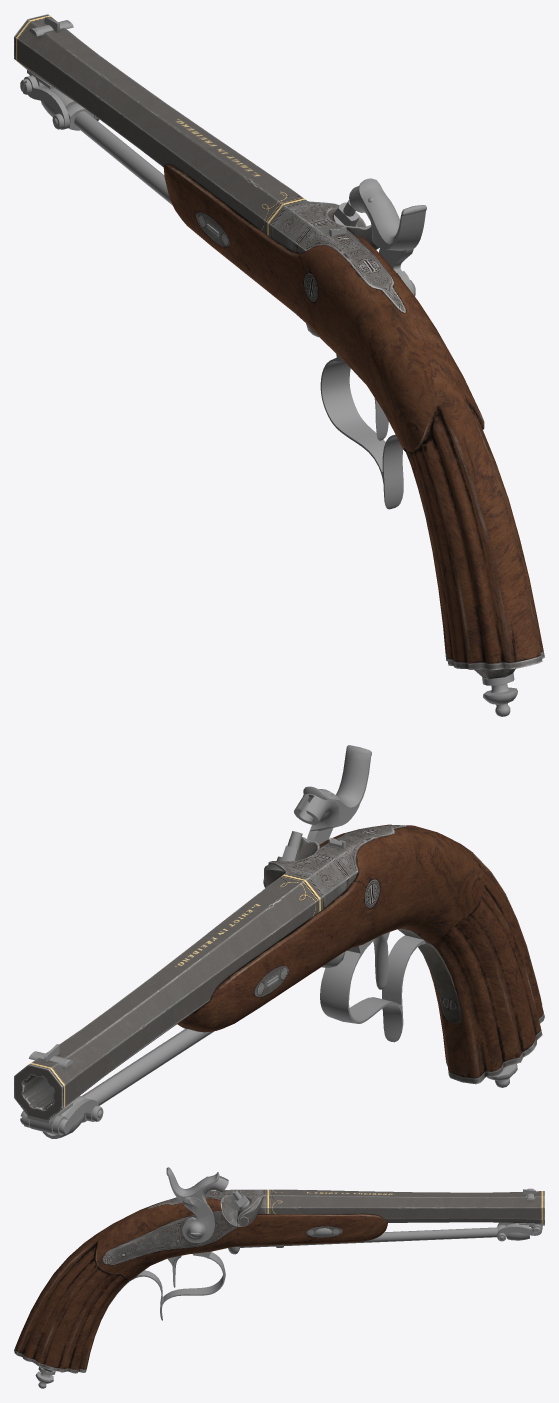
File: old weapon.FBX
3 renders of one model, top to bottom at view 1: azimuth 30°, elevation 25°; view 2: azimuth 150°, elevation 25°; view 3: azimuth 270°, elevation 25°, orthographic. The views are drawn at different scales.
Parts seen in each view (by area): view 1: korpus_wood_stv_B_test2_weld_01, obod_kruchka, kurok_B, tube_shonpola_weld, naboldashnik; view 2: korpus_wood_stv_B_test2_weld_01, obod_kruchka, kurok_B, tube_shonpola_weld, s_detail, spusk_kruchok; view 3: korpus_wood_stv_B_test2_weld_01, tube_shonpola_weld, kurok_A, obod_kruchka, kurok_B, s_detail.
Part boxes in pixels (x1,y1,x2,y2): korpus_wood_stv_B_test2_weld_01: (14, 14, 544, 678); obod_kruchka: (320, 354, 403, 509); kurok_B: (349, 178, 426, 250); tube_shonpola_weld: (74, 111, 172, 205); naboldashnik: (482, 673, 517, 716); korpus_wood_stv_B_test2_weld_01: (14, 824, 544, 1120); obod_kruchka: (320, 935, 425, 1042); kurok_B: (294, 745, 371, 831); tube_shonpola_weld: (82, 1028, 213, 1105); s_detail: (23, 1099, 98, 1135); spusk_kruchok: (373, 932, 389, 989); korpus_wood_stv_B_test2_weld_01: (14, 1189, 544, 1373); tube_shonpola_weld: (240, 1227, 506, 1247); kurok_A: (182, 1197, 214, 1242); obod_kruchka: (136, 1251, 225, 1320); kurok_B: (166, 1167, 228, 1205); s_detail: (497, 1222, 541, 1239).
Size of the model in its own units: 205 by 895 by 1908.
Materials: 2 (1 with a texture image).
